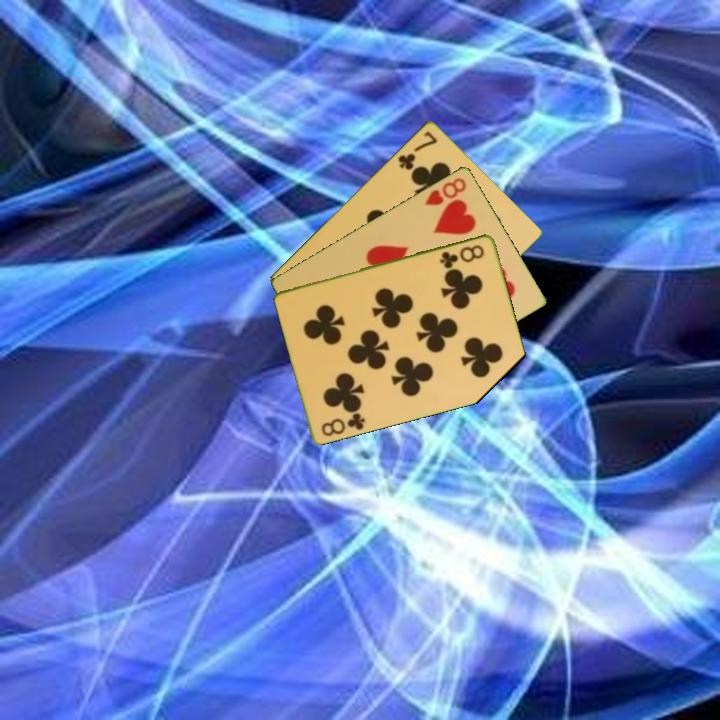7c: (394, 127, 440, 173)
8c: (436, 241, 487, 271), (318, 409, 368, 439)
8h: (421, 174, 469, 208)
